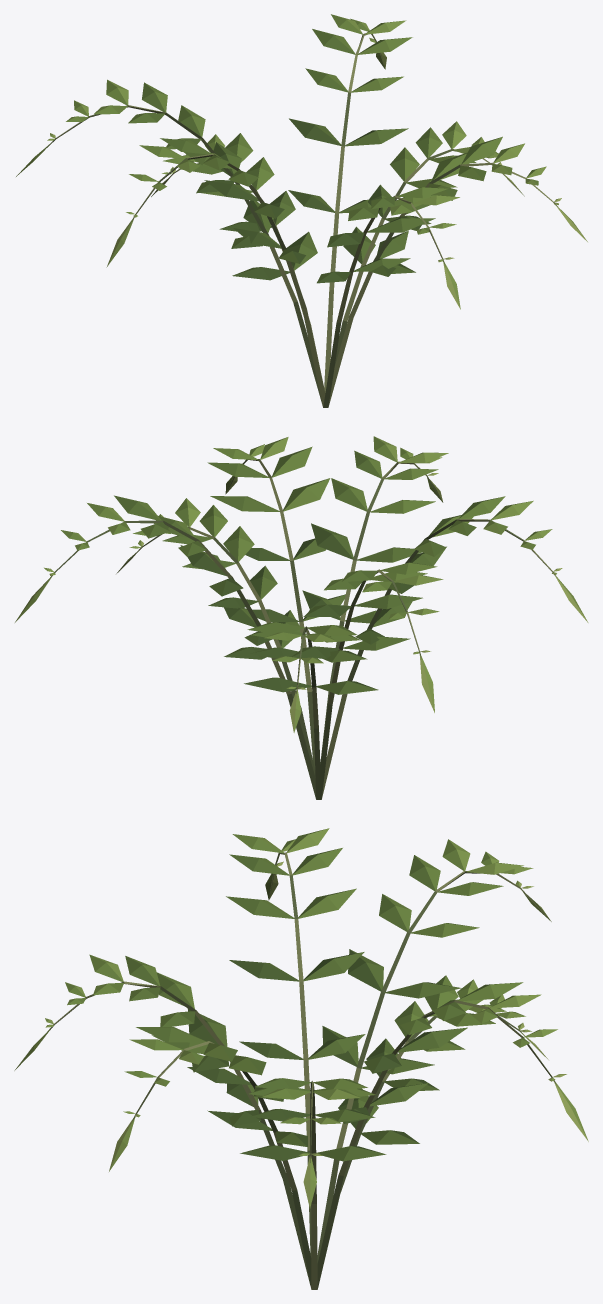
File: woodland-fern.glb
3 renders of one model, top to bottom at view 1: azimuth 30°, elevation 25°; view 2: azimuth 150°, elevation 25°; view 3: azimuth 270°, elevation 25°, orthographic. The views are drawn at different scales.
Parts seen in each view (by area): view 1: Fern Leaf pinnate fronds, Fern rachises; view 2: Fern Leaf pinnate fronds, Fern rachises; view 3: Fern Leaf pinnate fronds, Fern rachises.
Boxes of the visible parts, left/top/right/bottom form: Fern Leaf pinnate fronds: left=16, top=14, right=587, bottom=309; Fern rachises: left=47, top=33, right=559, bottom=407; Fern Leaf pinnate fronds: left=15, top=436, right=588, bottom=732; Fern rachises: left=49, top=459, right=557, bottom=799; Fern Leaf pinnate fronds: left=14, top=828, right=588, bottom=1208; Fern rachises: left=47, top=852, right=556, bottom=1289.
Size of the model in its own units: 0.7929 by 0.5264 by 0.7653.
